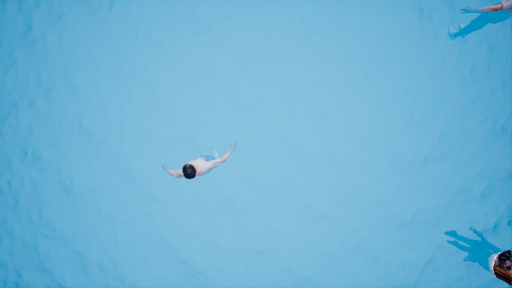person: (446, 224, 512, 287), (155, 132, 243, 177), (434, 1, 511, 51)
